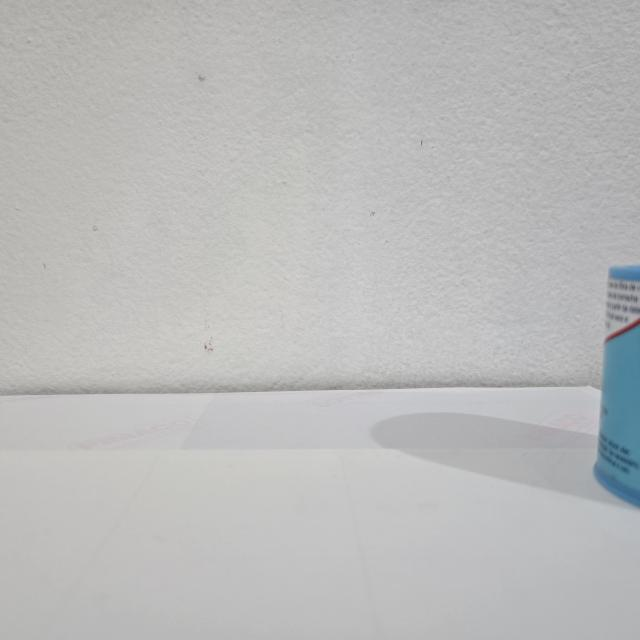procitex: (590, 260, 640, 512)
